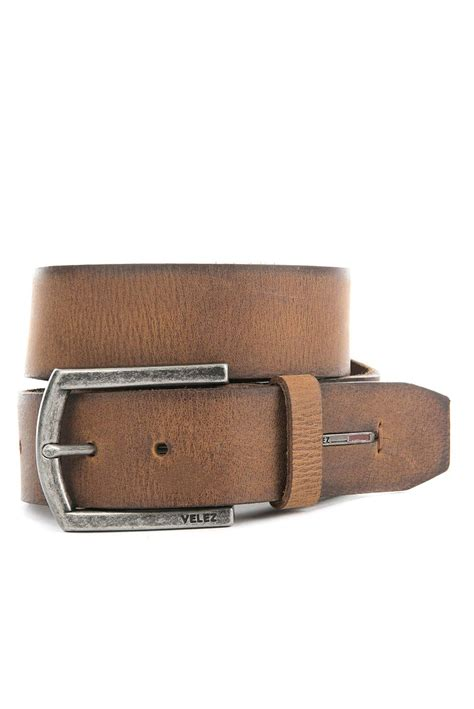cuero: (15, 261, 453, 511)
